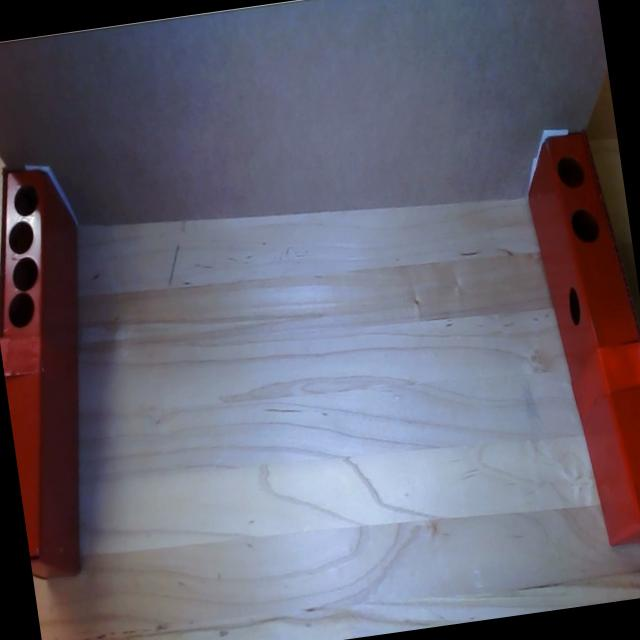Hole: (5, 290, 38, 330), (570, 205, 601, 245), (10, 256, 41, 294), (556, 153, 586, 190), (7, 220, 36, 256), (12, 182, 40, 218), (566, 286, 584, 328)
